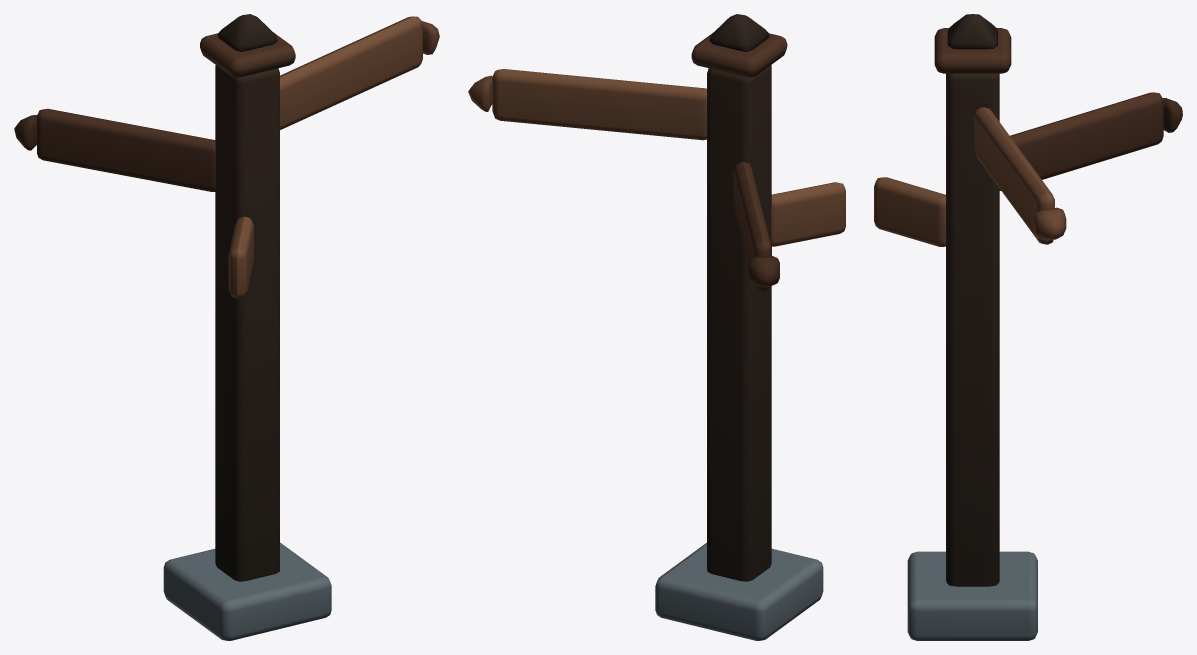
The model's file is fingerpost.glb.
3 views of the same model, side by side, from view 1: azimuth 30°, elevation 25°; view 2: azimuth 150°, elevation 25°; view 3: azimuth 270°, elevation 25° (orthographic).
Visible parts, largest first — view 1: fingerpost; view 2: fingerpost; view 3: fingerpost.
Boxes of the visible parts, x1,y1,x2,y2 form: fingerpost: (14, 14, 439, 640); fingerpost: (468, 14, 845, 640); fingerpost: (874, 14, 1182, 640).
Bounding box in the file's own units: 1.11 × 1.74 × 0.806.
